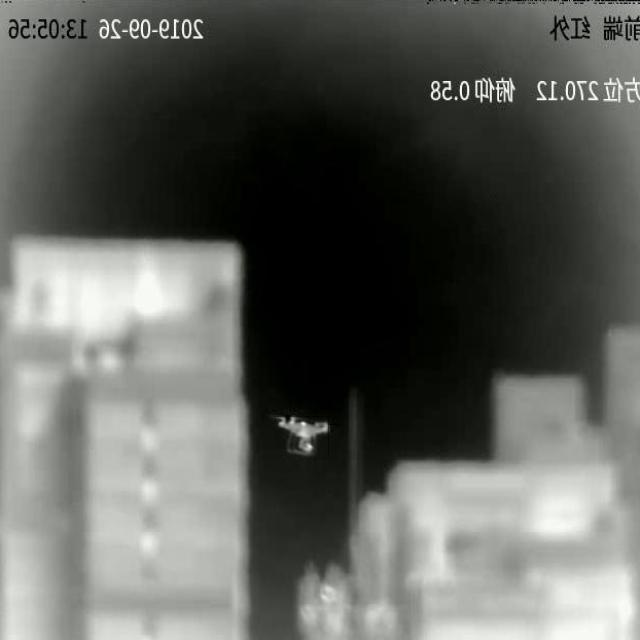drone: (274, 417, 328, 455)
